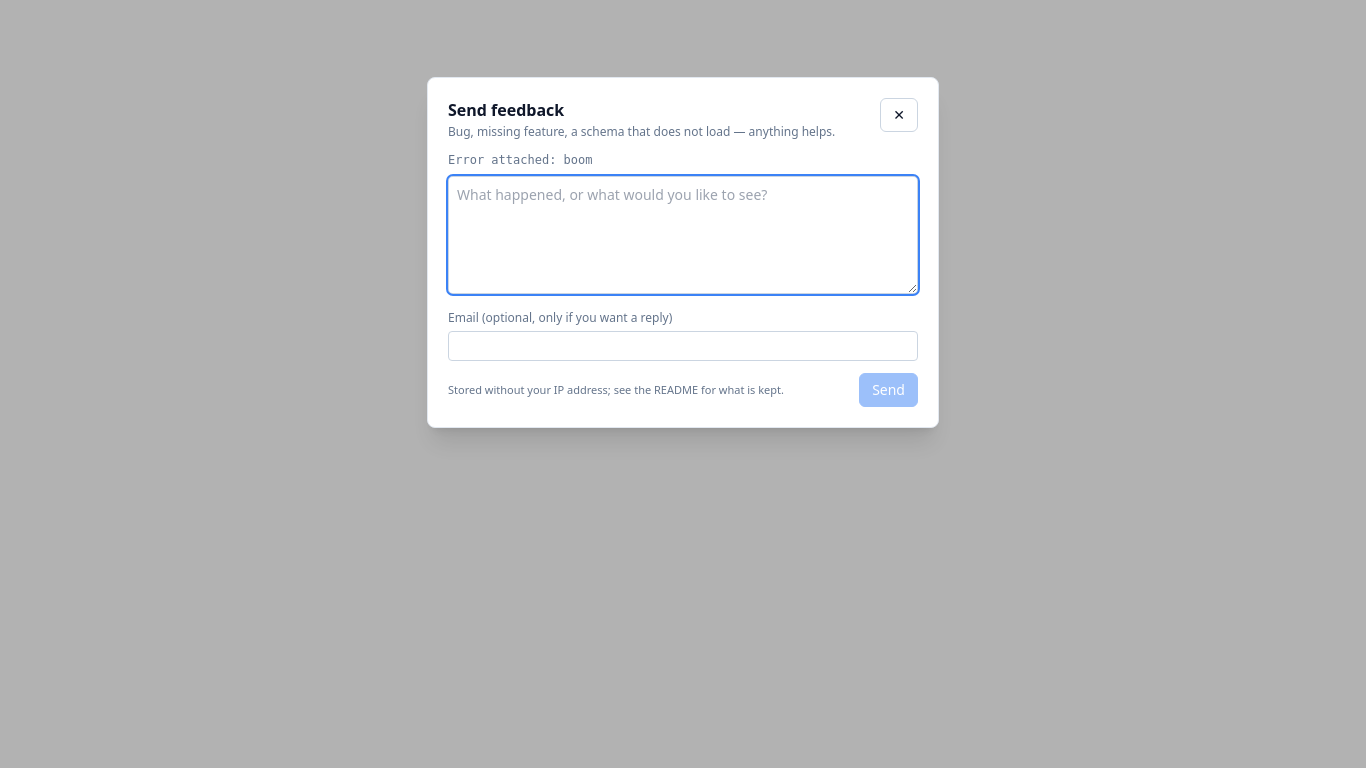
Scenario: FeedbackDialog › posts the message with context and shows success
Type "The diagram is empty" into the text box with placeholder "What happened, or what would you like to see?" at (683, 235), box 448,176 -> 918,294
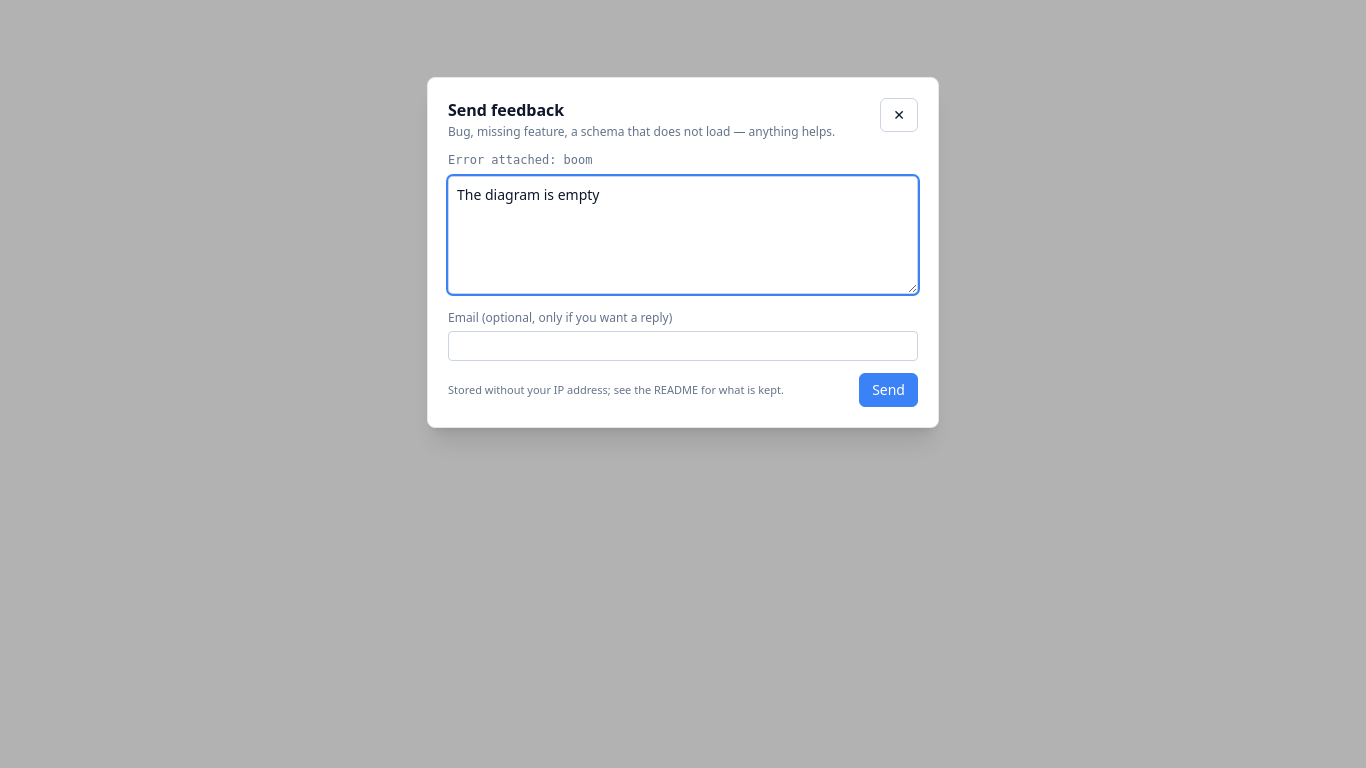
Click the button "Send" at (889, 390), box 859,373 -> 918,407
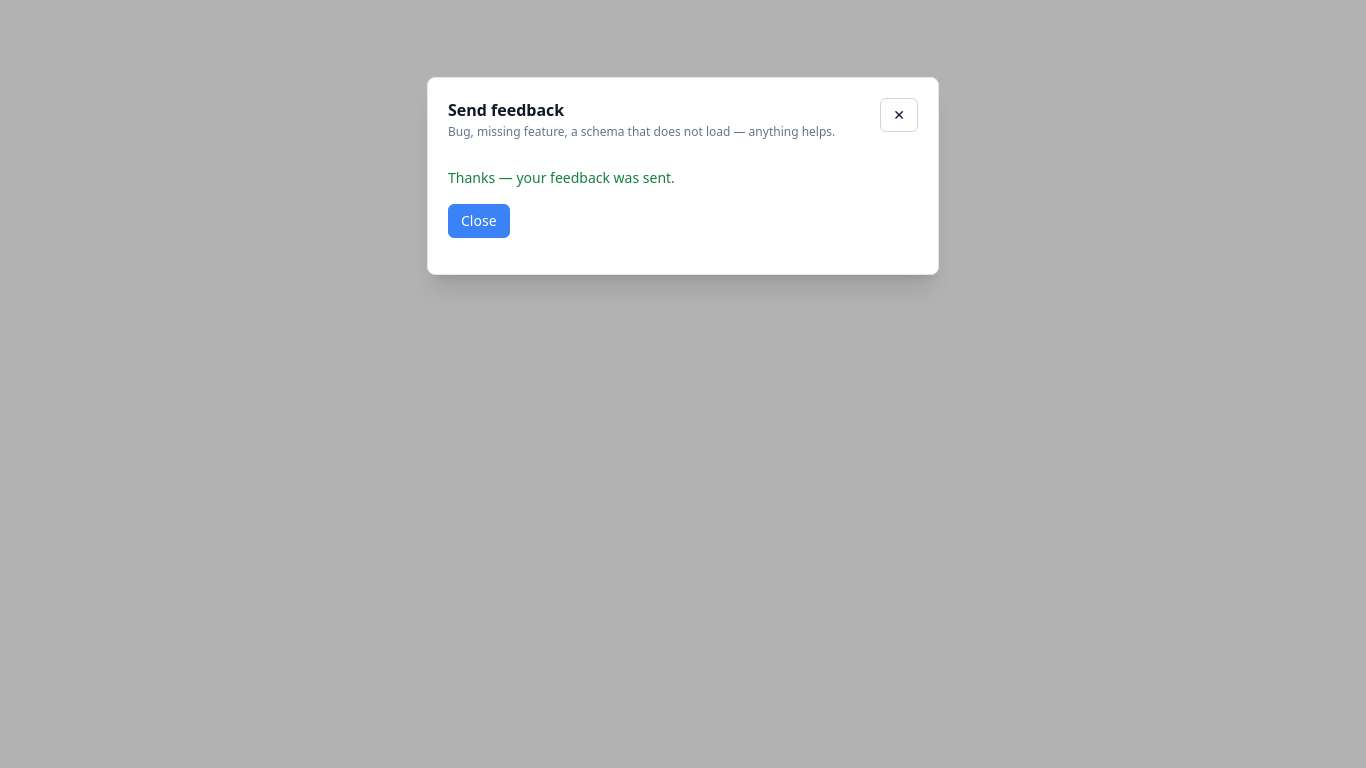
Now the message shows "feedback was sent", box 448,168 -> 675,187
